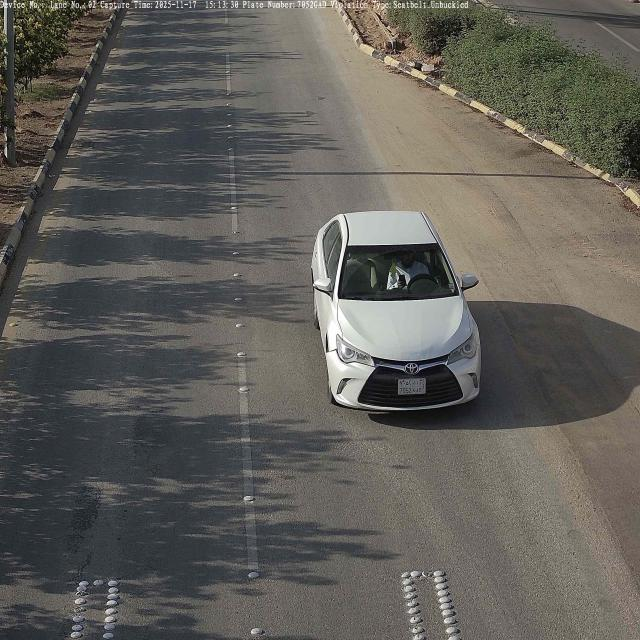person_without_seatbelt: (388, 248, 430, 292)
